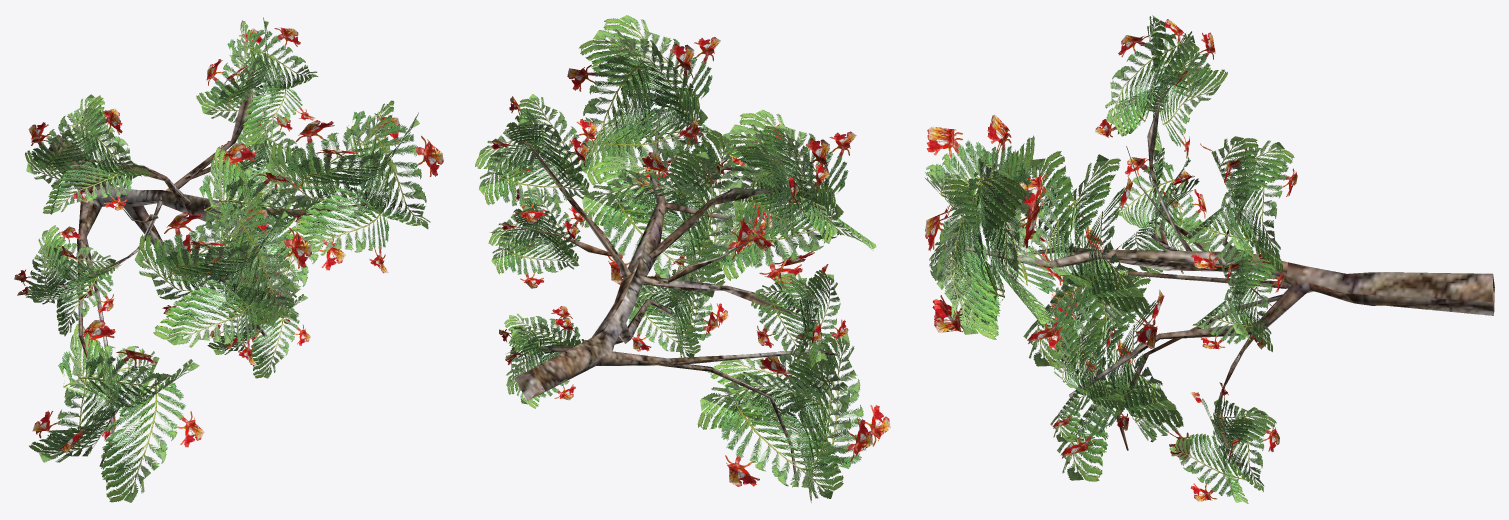
File: tree.obj
3 renders of one model, left to right at view 1: azimuth 30°, elevation 25°; view 2: azimuth 150°, elevation 25°; view 3: azimuth 270°, elevation 25°, orthographic. The views are drawn at different scales.
Parts seen in each view (by area): view 1: Plane.003_Plane.011, tree_small_joined; view 2: Plane.003_Plane.011, tree_small_joined; view 3: Plane.003_Plane.011, tree_small_joined.
Boxes of the visible parts, x1=… form: Plane.003_Plane.011: x1=14, y1=17, x2=443, y2=502; tree_small_joined: x1=45, y1=38, x2=367, y2=466; Plane.003_Plane.011: x1=475, y1=15, x2=890, y2=502; tree_small_joined: x1=490, y1=116, x2=836, y2=479; Plane.003_Plane.011: x1=924, y1=15, x2=1297, y2=503; tree_small_joined: x1=965, y1=79, x2=1494, y2=462.
Size of the model in its own units: 9.41 by 10.52 by 11.48.
